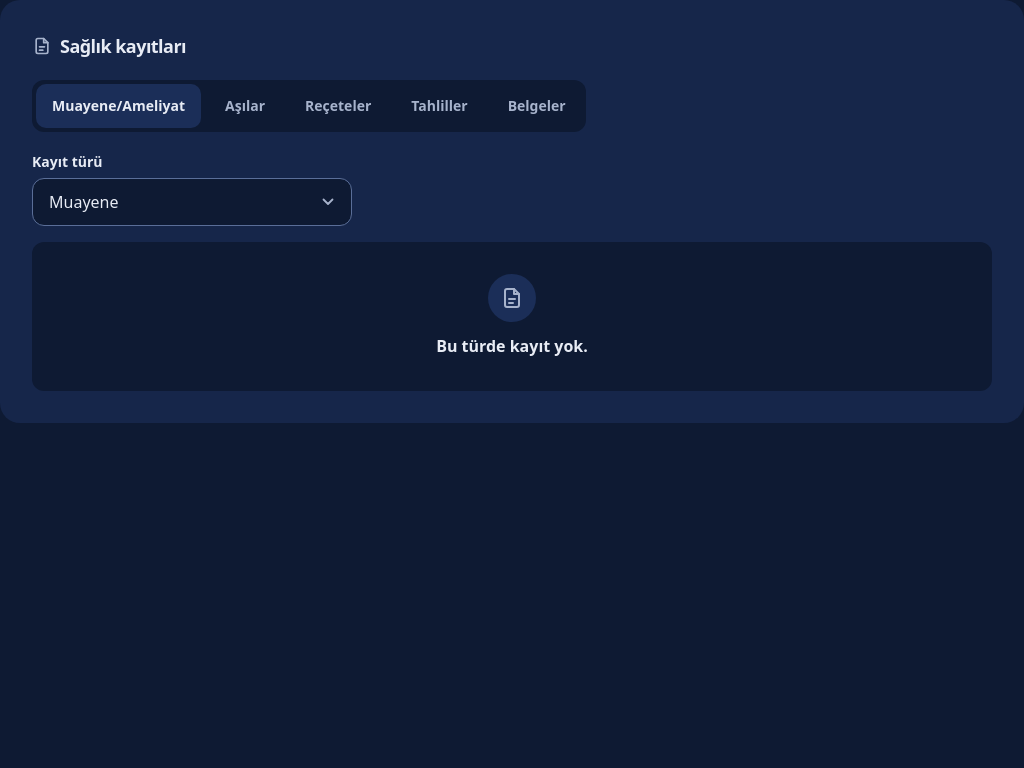
it: Belgeler sekmesi › bozuk dosyada açıklayıcı hata gösterir
Click the tab "Belgeler".
click(537, 106)  # box [492, 84, 582, 128]
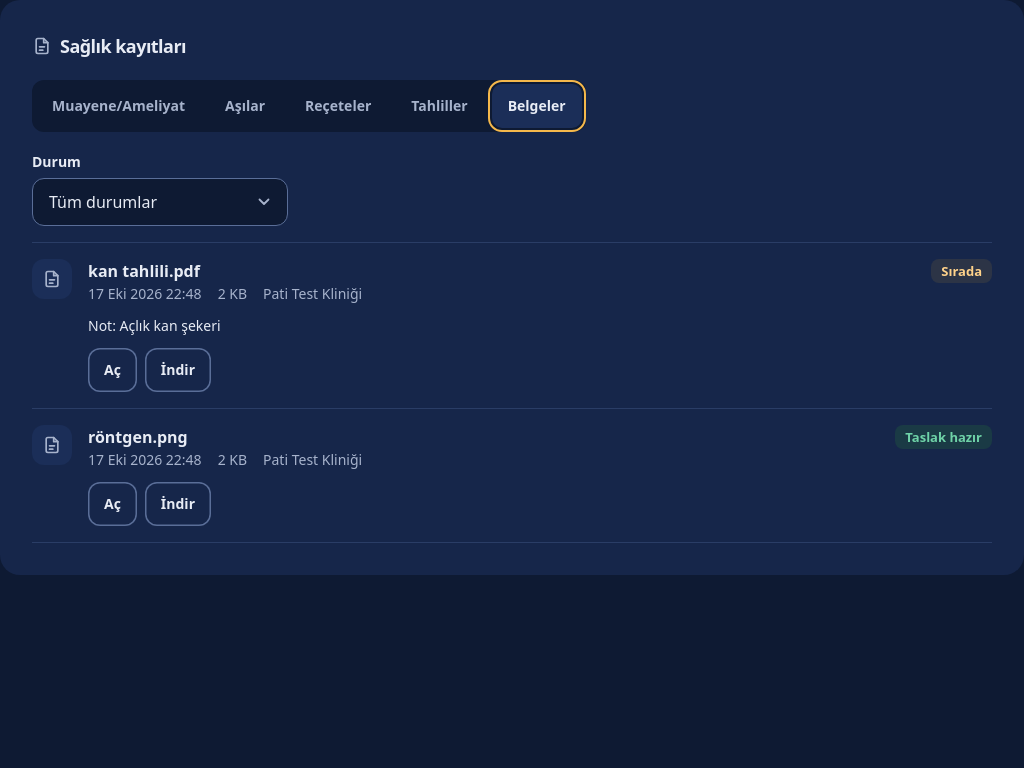
Click the button named "İndir: kan tahlili.pdf".
click(178, 370)  # box [145, 348, 211, 392]
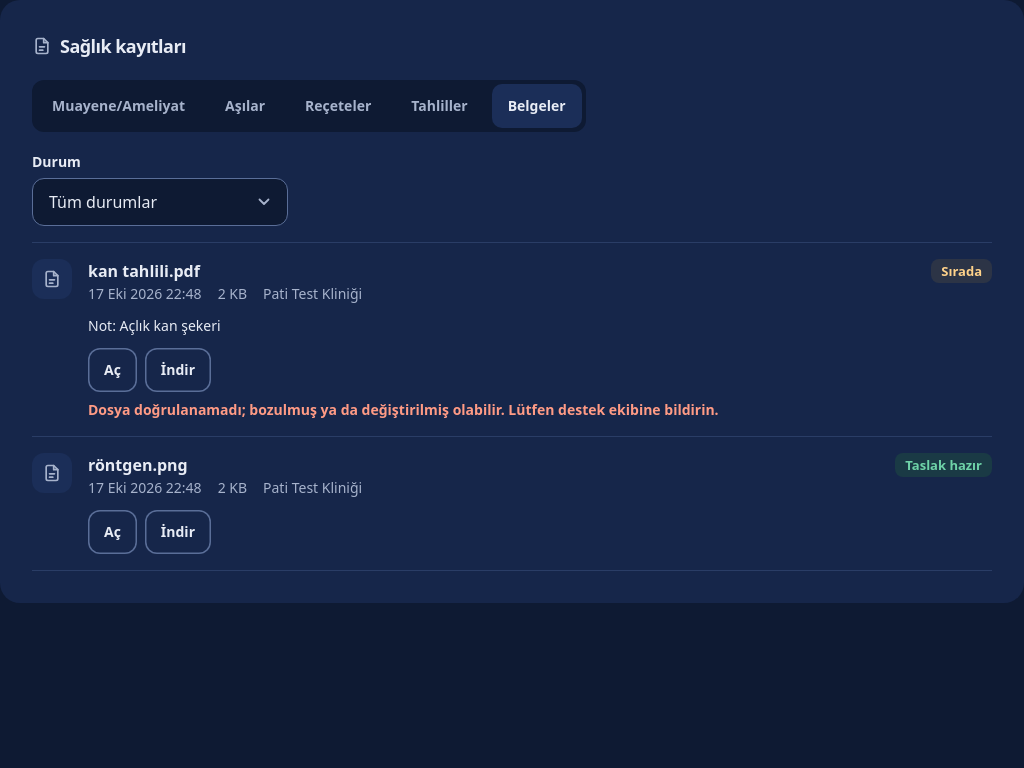
Now the message shows "Dosya doğrulanamadı", box [88, 400, 719, 419]
